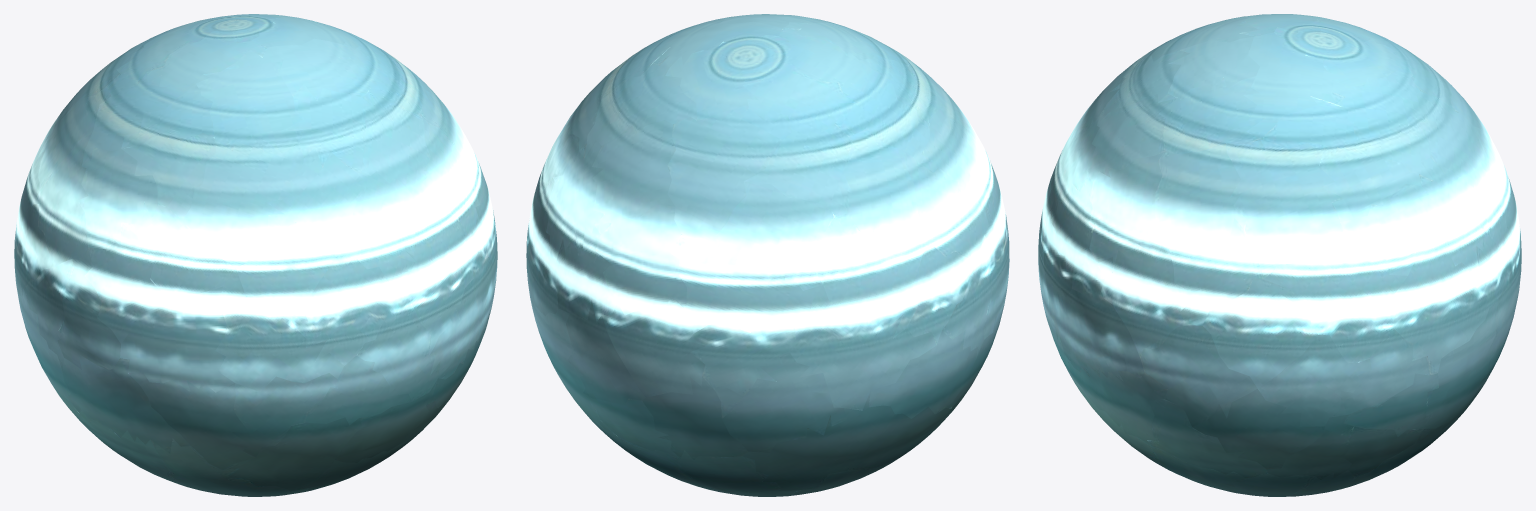
The model's file is solar-uranus.glb.
3 views of the same model, side by side, from view 1: azimuth 30°, elevation 25°; view 2: azimuth 150°, elevation 25°; view 3: azimuth 270°, elevation 25° (orthographic).
Bounding box in the file's own units: 1.9 × 1.9 × 1.9.
1 material, 1 textured.
